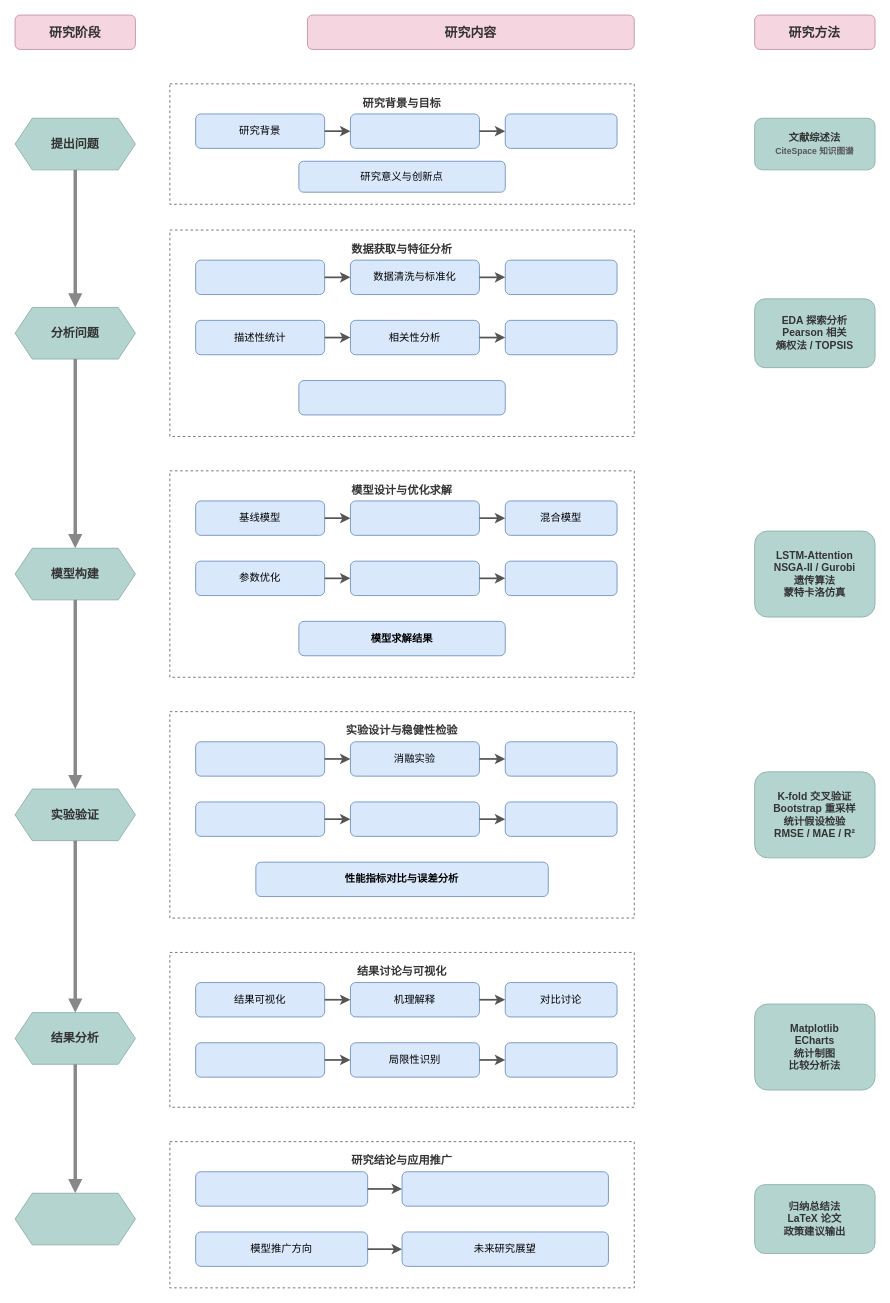
The diagram is 890 pixels wide and 1303 high, and some of its shapes have lost their labels. Each missing label, with the centre of its shape:
交叉验证: the point at 260,818
参数灵敏度: the point at 560,758
多源数据采集: the point at 260,277
对照实验: the point at 260,758
待解决科学问题: the point at 414,130
指标体系构建: the point at 401,397
收敛性验证: the point at 560,578
改进方向: the point at 560,1059
改进模型: the point at 414,517
政策建议与实践意义: the point at 504,1188
案例验证: the point at 260,1059
特征工程: the point at 560,337
真实数据测试: the point at 414,818
研究主要发现: the point at 281,1188
研究目标: the point at 560,130
算法实现: the point at 414,578
结论与展望: the point at 74,1218
缺失值处理: the point at 560,277
鲁棒性分析: the point at 560,818
